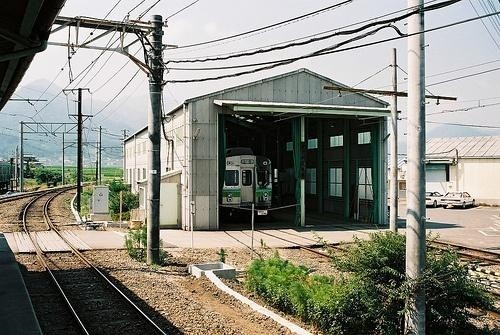car: (442, 193, 477, 210), (429, 192, 444, 208)
train: (224, 147, 275, 218)
